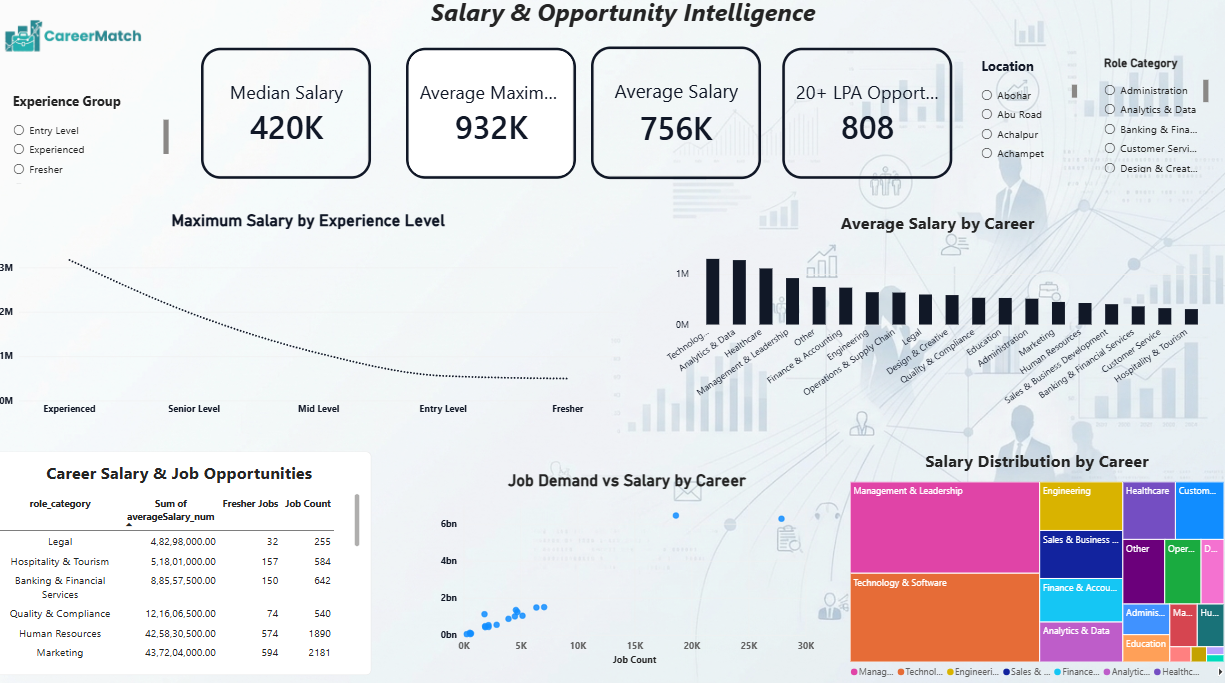

What the dashboard file says about the page in this screenshot:
{"tool":"powerbi","page":{"name":"Salary & Opportunity Intelligence","canvas":[1920,1080],"ordinal":3},"visuals":[{"type":"columnChart","title":"Average Salary by Career","fields":{"Category":["career_match vw_fresher_opportunities.role_category"],"Y":["DimJob.Average Salary"]},"box":[1031.2,327.3,866.6,349.9],"z":0},{"type":"lineChart","title":"Maximum Salary by Experience Level","fields":{"Category":["career_match vw_job_market.Experience Group"],"Y":["Avg(career_match vw_job_market.maximumSalary_num)"]},"box":[4.1,327.3,983.9,349.9],"z":1000},{"type":"scatterChart","title":"Job Demand vs Salary by Career","fields":{"Category":["career_match vw_fresher_opportunities.role_category"],"X":["DimJob.Job Count"],"Y":["Sum(career_match vw_job_market.averageSalary_num)"]},"box":[683.4,726.6,607.2,329.3],"z":2000},{"type":"treemap","title":"Salary Distribution by Career","fields":{"Group":["career_match vw_fresher_opportunities.role_category"],"Values":["Sum(career_match vw_job_market.averageSalary_num)"]},"box":[1313.2,693.7,607.2,387],"z":3000},{"type":"tableEx","title":"Career Salary & Job Opportunities","fields":{"Values":["career_match vw_fresher_opportunities.role_category","Sum(career_match vw_job_market.averageSalary_num)","DimJob.Fresher Jobs","DimJob.Job Count"]},"box":[0,712.2,592.8,343.7],"z":4000},{"type":"listSlicer","title":"Role Category","fields":{"Values":["career_match vw_fresher_opportunities.role_category"]},"box":[1704.3,88.5,193.9,210.4],"z":5000},{"type":"listSlicer","fields":{"Values":["career_match vw_job_market.Experience Group"]},"box":[24.8,144.4,272.3,171.2],"z":6000},{"type":"listSlicer","title":"Location","fields":{"Values":["career_match vw_job_market.location"]},"box":[1514.9,90.6,179.5,196],"z":7000},{"type":"cardVisual","fields":{"Data":["DimJob.Average Salary"]},"box":[930.4,88.5,261.4,203.8],"z":8000},{"type":"cardVisual","fields":{"Data":["career_match vw_salary_analysis.Median Salary"]},"box":[331.4,90.6,261.4,201.7],"z":9000},{"type":"cardVisual","fields":{"Data":["career_match vw_job_market.20+ LPA Opportunities"]},"box":[1224.7,90.6,261.4,201.7],"z":10000},{"type":"cardVisual","fields":{"Data":["career_match vw_job_market.Average Maximum Salary"]},"box":[646.3,90.6,261.4,201.7],"z":11000},{"type":"image","box":[8.2,0,253.2,144.1],"z":12000},{"type":"textbox","box":[685.4,10.3,605.1,61.7],"z":13000}]}

Visuals, with their boxes in screenshot pixels (x1, y1, x2, y2), scaled from the page's 1920x1080 canvas onto the 1225x683 screenshot:
"Average Salary by Career" columnChart: 658, 207, 1211, 428
"Maximum Salary by Experience Level" lineChart: 3, 207, 630, 428
"Job Demand vs Salary by Career" scatterChart: 436, 460, 823, 668
"Salary Distribution by Career" treemap: 838, 439, 1224, 682
"Career Salary & Job Opportunities" tableEx: 0, 450, 378, 668
"Role Category" listSlicer: 1087, 56, 1211, 189
listSlicer - career_match vw_job_market.Experience Group: 16, 91, 190, 200
"Location" listSlicer: 967, 57, 1081, 181
cardVisual - DimJob.Average Salary: 594, 56, 760, 185
cardVisual - career_match vw_salary_analysis.Median Salary: 211, 57, 378, 185
cardVisual - career_match vw_job_market.20+ LPA Opportunities: 781, 57, 948, 185
cardVisual - career_match vw_job_market.Average Maximum Salary: 412, 57, 579, 185
image: 5, 0, 167, 91
textbox: 437, 7, 823, 46
